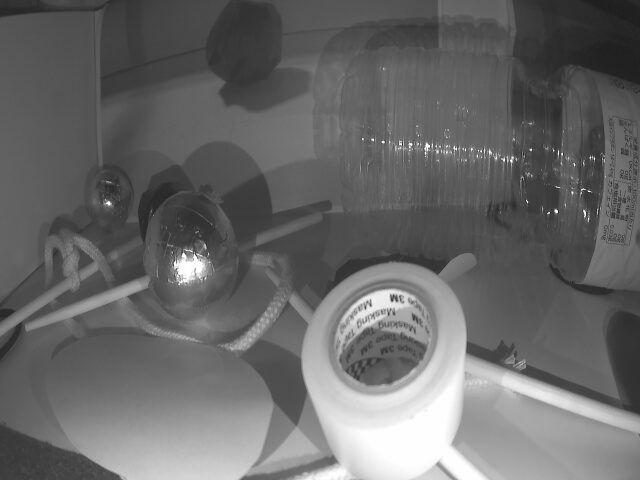Live: (141, 192, 242, 321), (83, 169, 133, 231)
